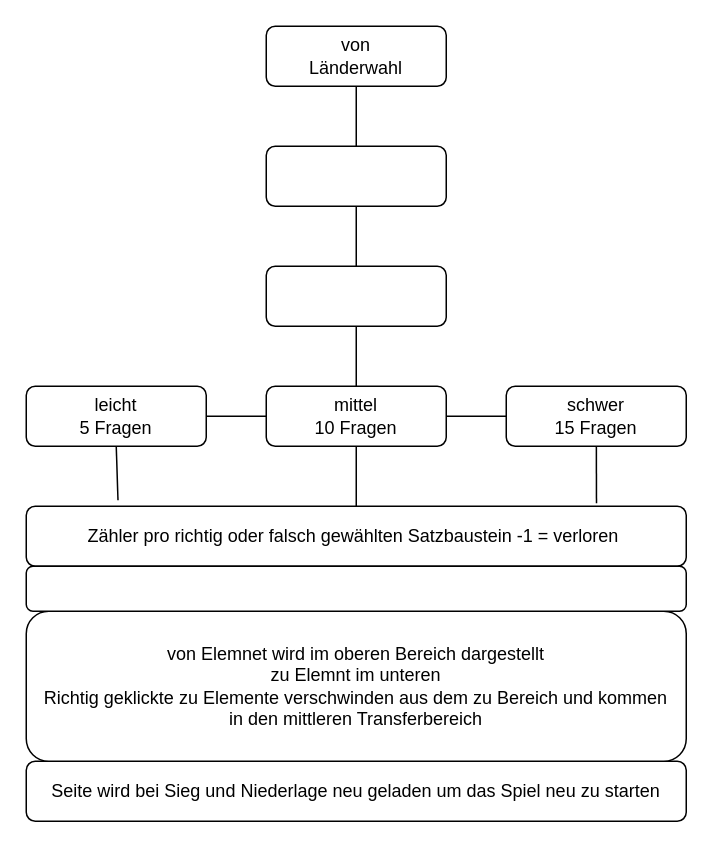
Some shapes in this 713 by 848 pixel diagram are drawn without their labels. Here are the shapes that lost their labels. From the top down, the centre of each, then its label:
(355,175): zu Landerwahl
(355,295): Schwierigkeit wählen
(355,588): Buttons haben Soundfeedback
